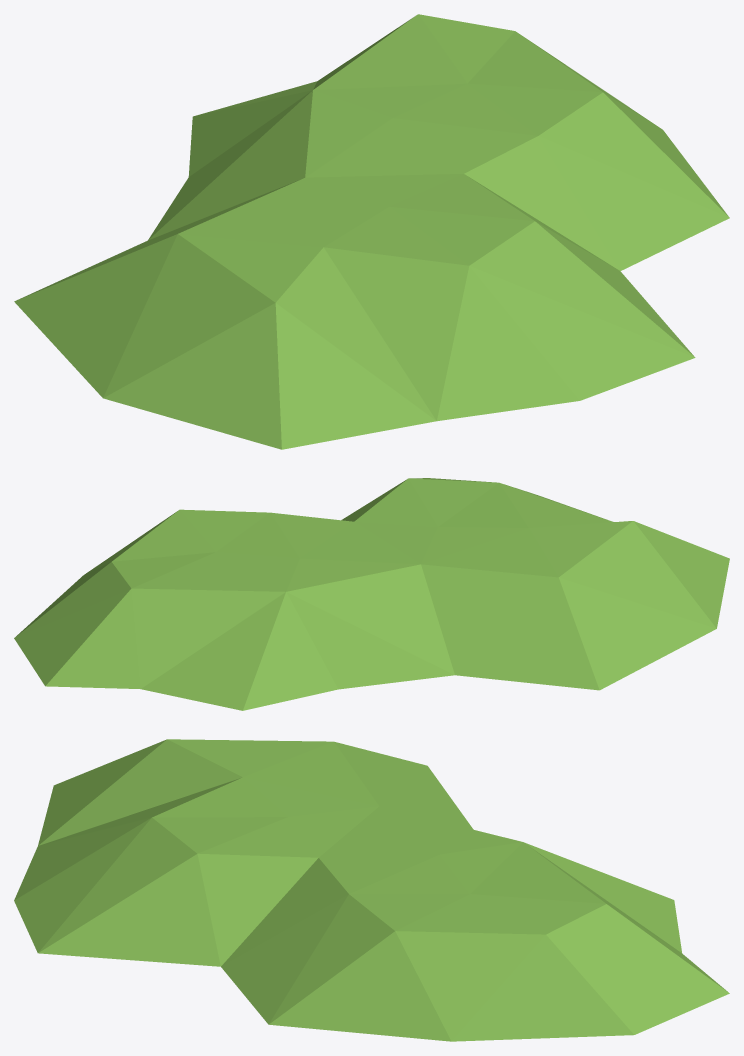
File: MT_Mountain_S_b_12_LOD.fbx
3 renders of one model, top to bottom at view 1: azimuth 30°, elevation 25°; view 2: azimuth 150°, elevation 25°; view 3: azimuth 270°, elevation 25°, orthographic. The views are drawn at different scales.
Parts seen in each view (by area): view 1: MT_Mountain_S_b_12_LOD0; view 2: MT_Mountain_S_b_12_LOD0; view 3: MT_Mountain_S_b_12_LOD0.
Part boxes in pixels (x1,y1,x2,y2): MT_Mountain_S_b_12_LOD0: [14, 14, 729, 449]; MT_Mountain_S_b_12_LOD0: [14, 478, 729, 710]; MT_Mountain_S_b_12_LOD0: [14, 739, 729, 1041].
Size of what is drawn, in the model's own units: 1764 by 211 by 1846.
